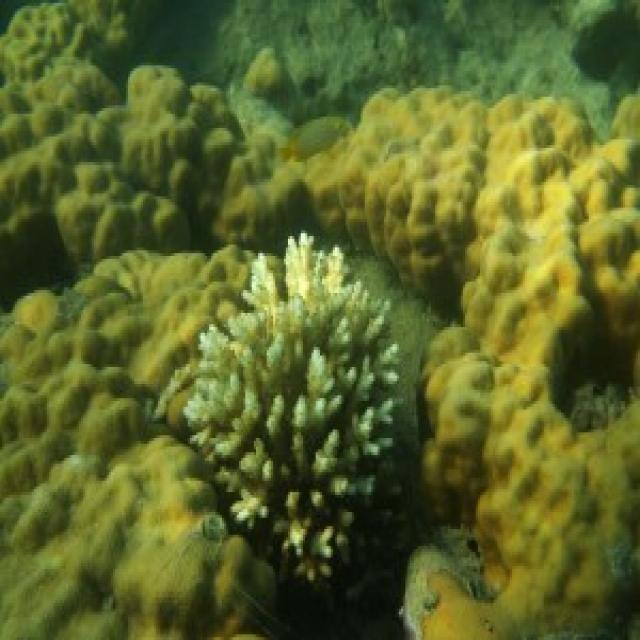Bleached: (187, 233, 406, 583)
Healthy: (4, 2, 640, 232), (404, 231, 640, 640), (1, 232, 186, 640)
